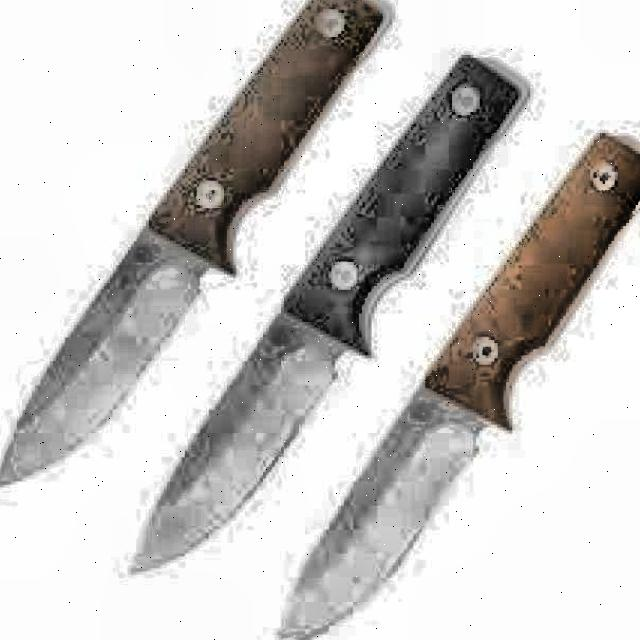knife: (124, 48, 536, 592), (0, 0, 401, 493), (267, 128, 640, 640)
